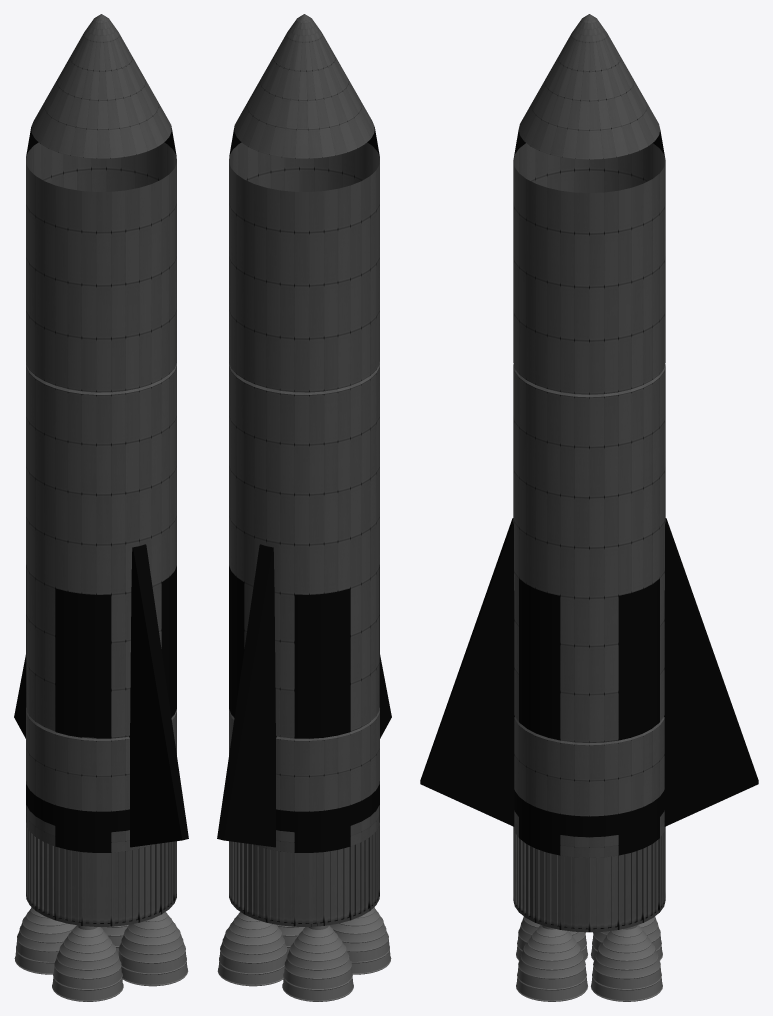
The model's file is starship.glb.
3 views of the same model, side by side, from view 1: azimuth 30°, elevation 25°; view 2: azimuth 150°, elevation 25°; view 3: azimuth 270°, elevation 25° (orthographic).
Parts seen in each view (by area): view 1: 03-Second-stage; view 2: 03-Second-stage; view 3: 03-Second-stage.
Boxes of the visible parts, x1,y1,x2,y2 form: 03-Second-stage: [14, 14, 188, 1001]; 03-Second-stage: [217, 14, 391, 1001]; 03-Second-stage: [420, 14, 758, 1001].
Bounding box in the file's own units: 1.98 × 13.72 × 4.4.
Materials: 3 (1 with a texture image).
